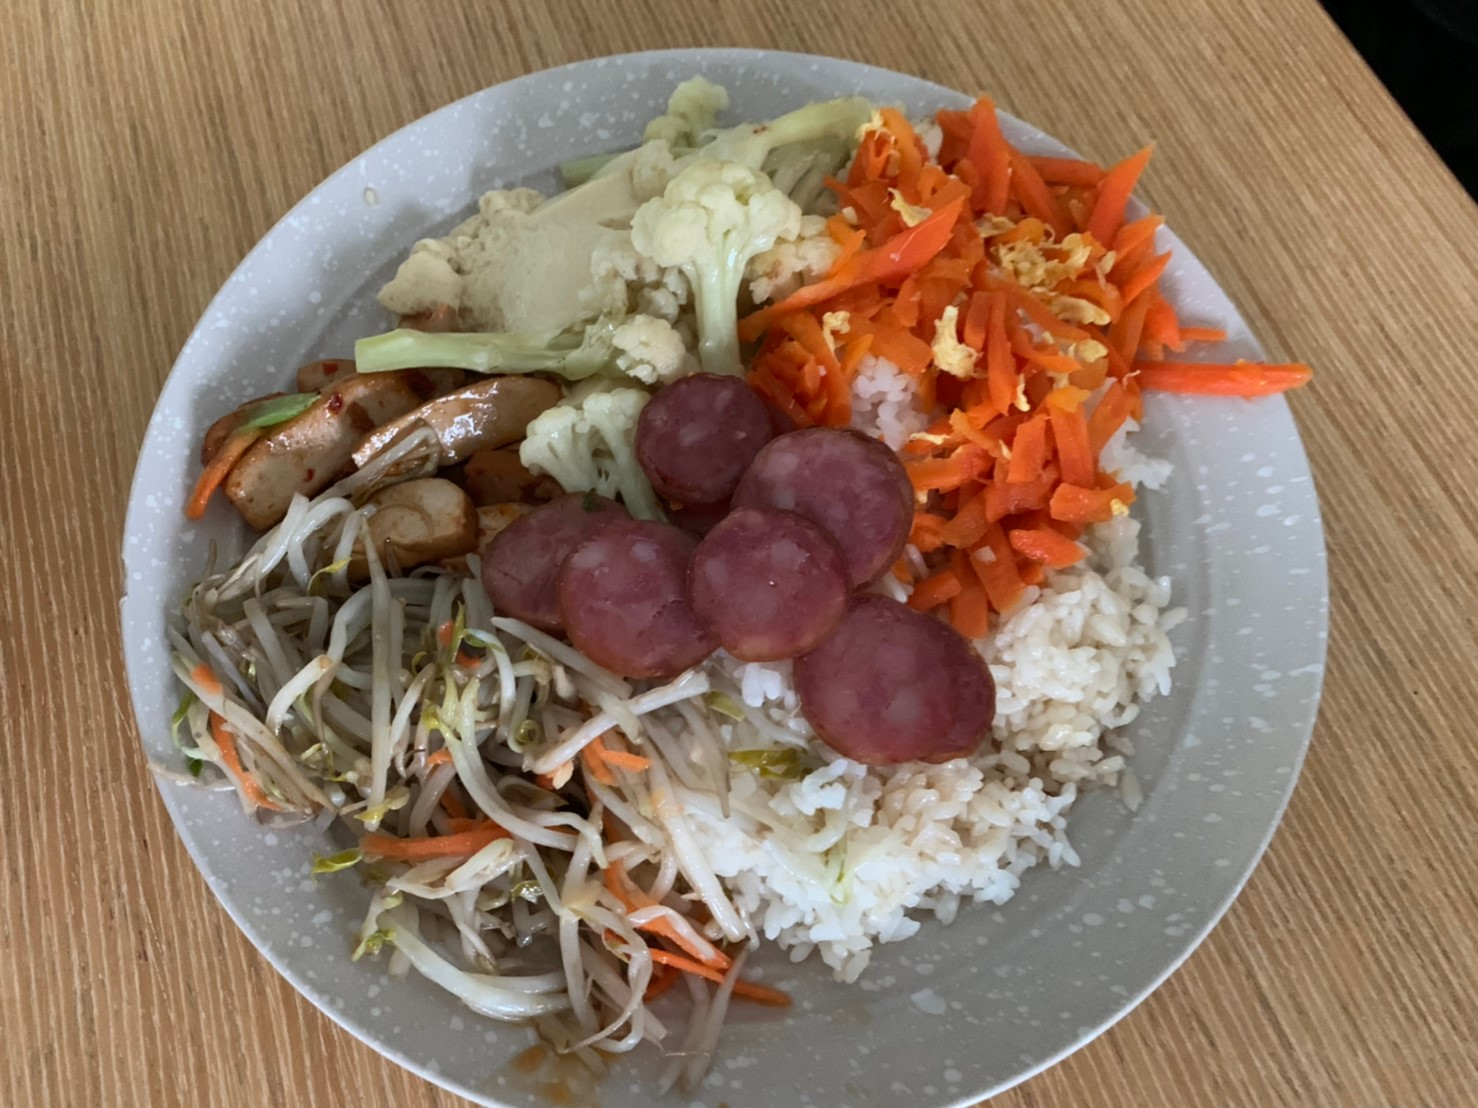carrot_eggs: (806, 108, 1173, 598)
chinese_sausage: (490, 370, 986, 770)
mung_bean_sprouts: (170, 564, 665, 1072)
rice: (692, 656, 1129, 967)
